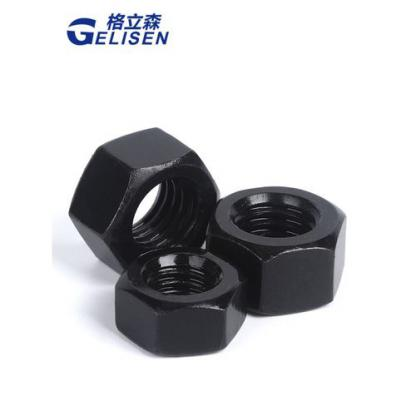FOD: (66, 125, 223, 276), (210, 183, 346, 318), (111, 244, 249, 364)
